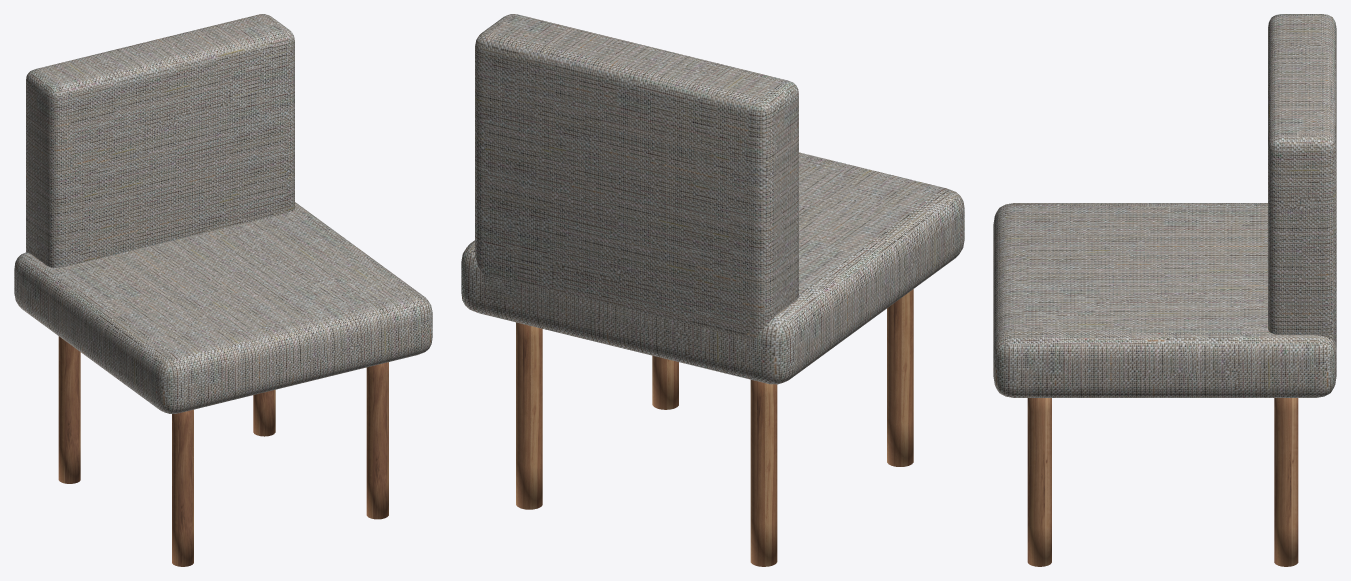
File: chair.glb
3 renders of one model, left to right at view 1: azimuth 30°, elevation 25°; view 2: azimuth 150°, elevation 25°; view 3: azimuth 270°, elevation 25°, orthographic. The views are drawn at different scales.
Visible parts, largest first — view 1: Box003, Box002, Cylinder004, Cylinder002, Cylinder001, Cylinder003; view 2: Box003, Box002, Cylinder001, Cylinder003, Cylinder002, Cylinder004; view 3: Box002, Box003, Cylinder003, Cylinder004.
Boxes of the visible parts, x1=… form: Box003: x1=26, y1=14, x2=294, y2=267; Box002: x1=14, y1=202, x2=432, y2=413; Cylinder004: x1=366, y1=362, x2=388, y2=519; Cylinder002: x1=172, y1=409, x2=193, y2=566; Cylinder001: x1=58, y1=336, x2=80, y2=483; Cylinder003: x1=253, y1=389, x2=275, y2=436; Box003: x1=475, y1=14, x2=798, y2=363; Box002: x1=461, y1=152, x2=964, y2=384; Cylinder001: x1=750, y1=380, x2=777, y2=566; Cylinder003: x1=516, y1=322, x2=542, y2=509; Cylinder002: x1=887, y1=289, x2=913, y2=466; Cylinder004: x1=652, y1=355, x2=678, y2=409; Box002: x1=993, y1=203, x2=1336, y2=397; Box003: x1=1268, y1=14, x2=1336, y2=346; Cylinder003: x1=1274, y1=398, x2=1298, y2=566; Cylinder004: x1=1027, y1=398, x2=1051, y2=566.
Bounding box in the file's own units: 0.5 × 0.7 × 0.5.
2 materials, 2 textured.
